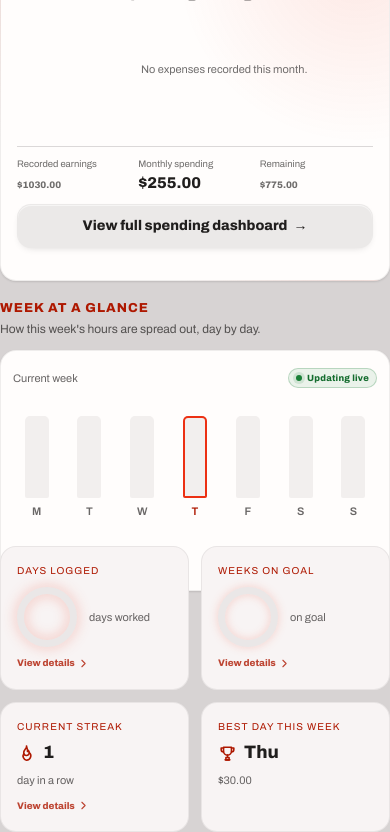
Home active-shift rendering › opens useful detail sheets from each interactive summary card
(page scrolled)
Click the button with aria-label "View Days logged details" at [94, 618], box x1=0 y1=546 x2=189 y2=690
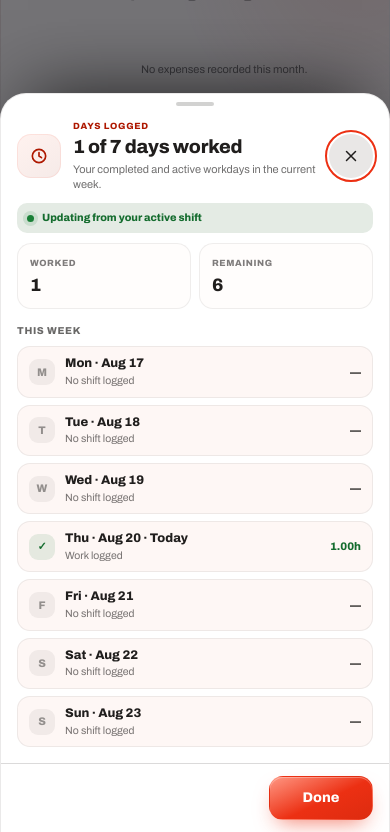
Expected: the dialog "1 of 7 days worked" shows "Thu · Aug 20 · Today"
Click the button "Done" at [321, 798], box x1=269 y1=776 x2=373 y2=820
Wait 200 ms
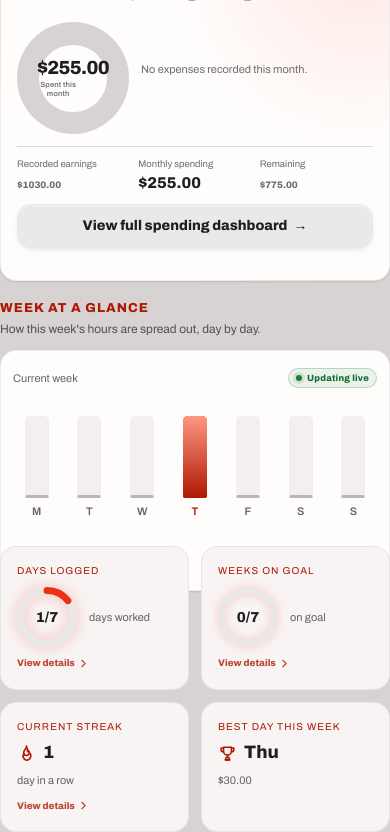
Click the button with aria-label "View Weeks on goal details" at [296, 618], box x1=201 y1=546 x2=389 y2=690
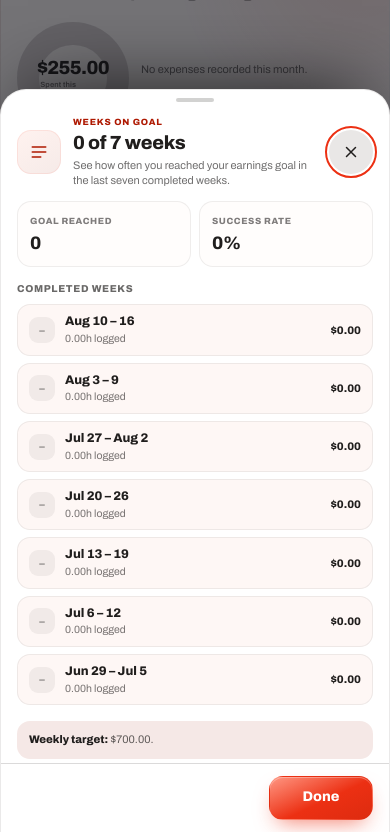
Expected: the dialog "0 of 7 weeks" shows "Weekly target", x1=29 y1=734 x2=108 y2=746
Click the button "Done" at [321, 798], box x1=269 y1=776 x2=373 y2=820
Wait 200 ms
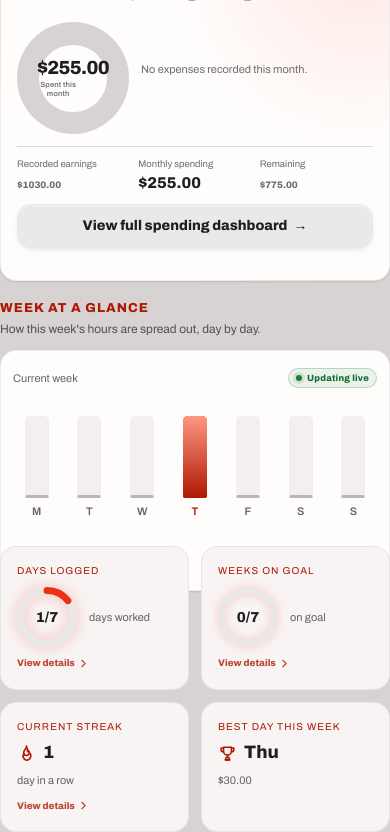
Click the button with aria-label "View Current streak details" at [94, 767], box x1=0 y1=702 x2=189 y2=831
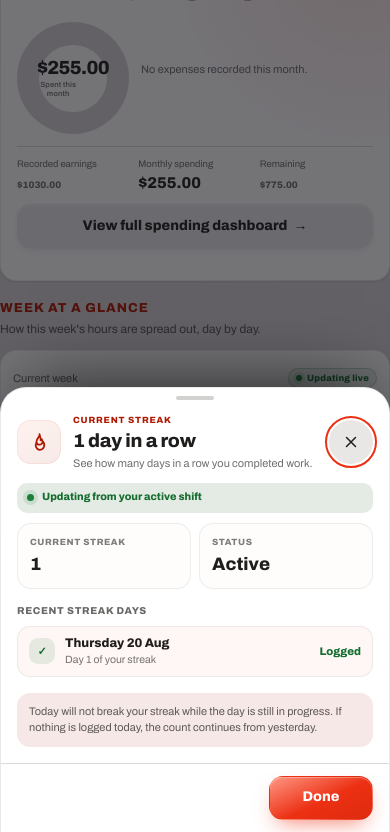
Expected: the dialog "1 day in a row" shows "Recent streak days", x1=17 y1=605 x2=147 y2=616
